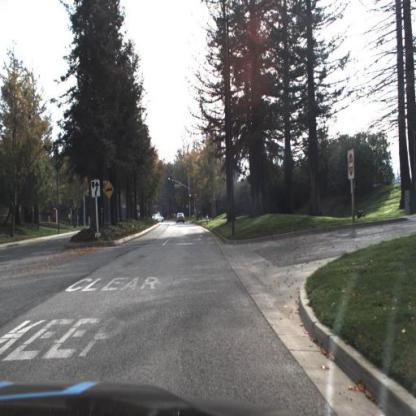car: (152, 211, 167, 225), (150, 213, 166, 226), (175, 211, 187, 228), (177, 212, 186, 225)
